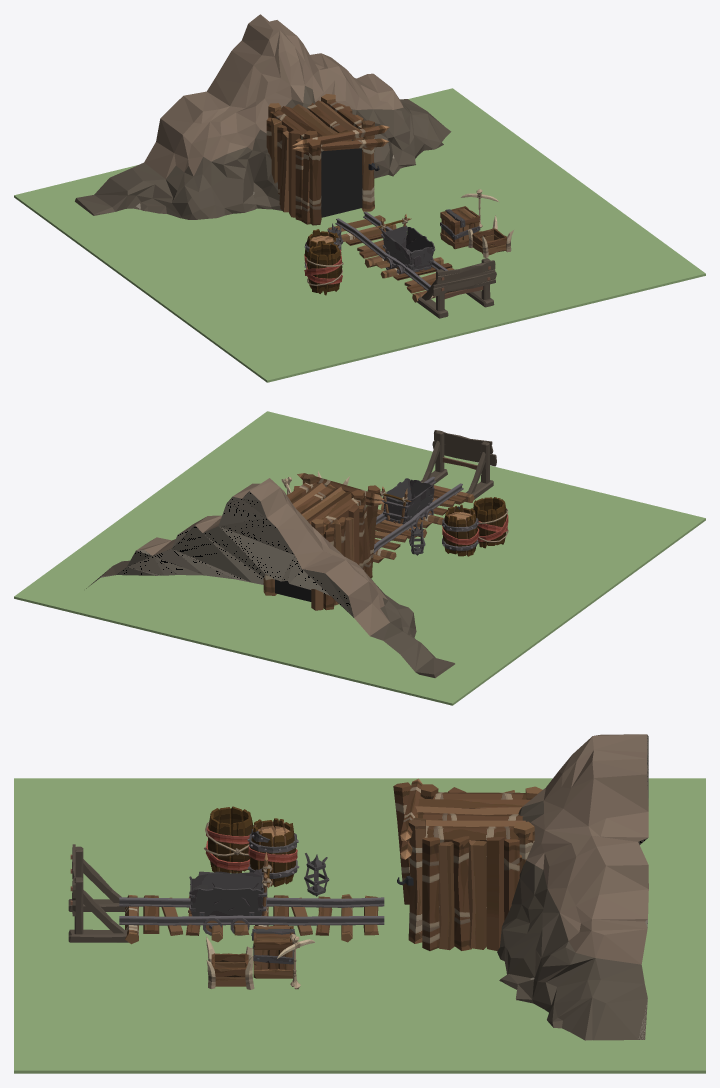
The model's file is mine.glb.
3 views of the same model, one above another, from view 1: azimuth 30°, elevation 25°; view 2: azimuth 150°, elevation 25°; view 3: azimuth 270°, elevation 25° (orthographic). The views are drawn at different scales.
Parts seen in each view (by area): view 1: Ground, Mountain_Backdrop, Mine_Entrance, Track_End, Minecart, Track_0, Barrel_1, Track_1, Crate_0, Crate_1; view 2: Ground, Mountain_Backdrop, Mine_Entrance, Track_End, Minecart, Barrel_0, Barrel_1, Track_0, Track_1; view 3: Ground, Mountain_Backdrop, Mine_Entrance, Minecart, Track_0, Track_1, Track_End, Barrel_1, Barrel_0, Crate_0, Crate_1, Lantern.
Part boxes in pixels (<box>): Ground: <box>14,88,705,382</box>; Mountain_Backdrop: <box>75,14,451,219</box>; Mine_Entrance: <box>266,94,389,225</box>; Track_End: <box>417,258,496,318</box>; Minecart: <box>375,214,435,274</box>; Track_0: <box>328,211,396,267</box>; Barrel_1: <box>304,243,343,295</box>; Track_1: <box>375,254,454,302</box>; Crate_0: <box>440,206,480,249</box>; Crate_1: <box>468,215,513,257</box>; Ground: <box>14,411,705,705</box>; Mountain_Backdrop: <box>86,478,454,677</box>; Mine_Entrance: <box>263,473,384,610</box>; Track_End: <box>420,430,496,499</box>; Minecart: <box>380,478,434,527</box>; Barrel_0: <box>442,504,479,556</box>; Barrel_1: <box>473,497,508,548</box>; Track_0: <box>373,513,426,563</box>; Track_1: <box>377,476,474,528</box>; Ground: <box>14,778,705,1073</box>; Mountain_Backdrop: <box>497,734,648,1040</box>; Mine_Entrance: <box>393,778,542,950</box>; Minecart: <box>188,852,272,935</box>; Track_0: <box>249,894,384,942</box>; Track_1: <box>119,895,250,944</box>; Track_End: <box>68,844,128,942</box>; Barrel_1: <box>204,806,253,873</box>; Barrel_0: <box>247,818,299,886</box>; Crate_0: <box>251,926,295,978</box>; Crate_1: <box>206,936,254,989</box>; Lantern: <box>304,853,329,896</box>.
Bounding box in the file's own units: 32 × 10.05 × 32.
3 materials, 2 textured.
